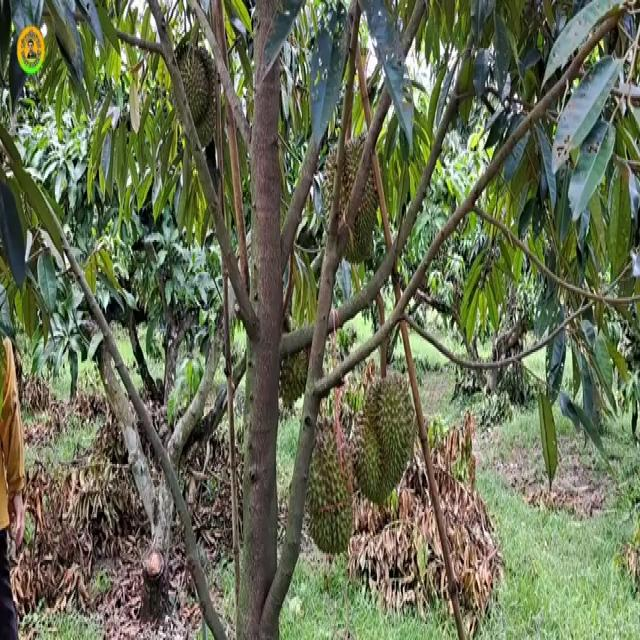durian: (350, 366, 418, 511), (299, 405, 358, 562), (316, 133, 382, 270), (167, 40, 224, 154)
